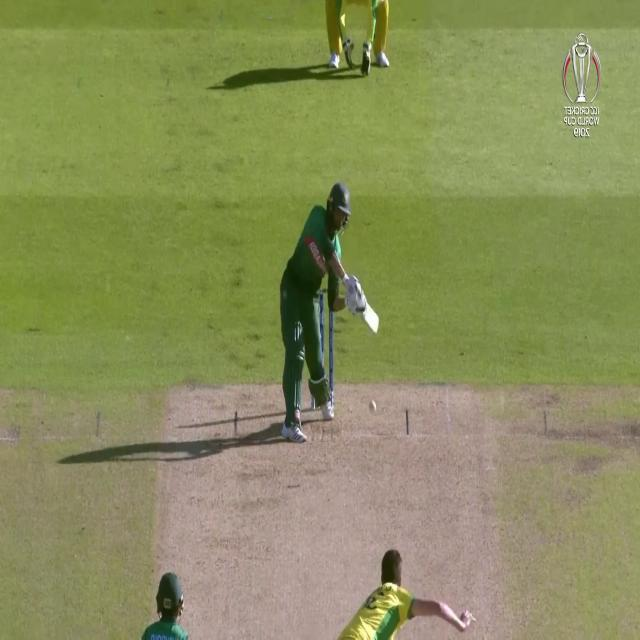ball: (366, 394, 379, 418)
